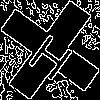H: (25, 25, 81, 83)
